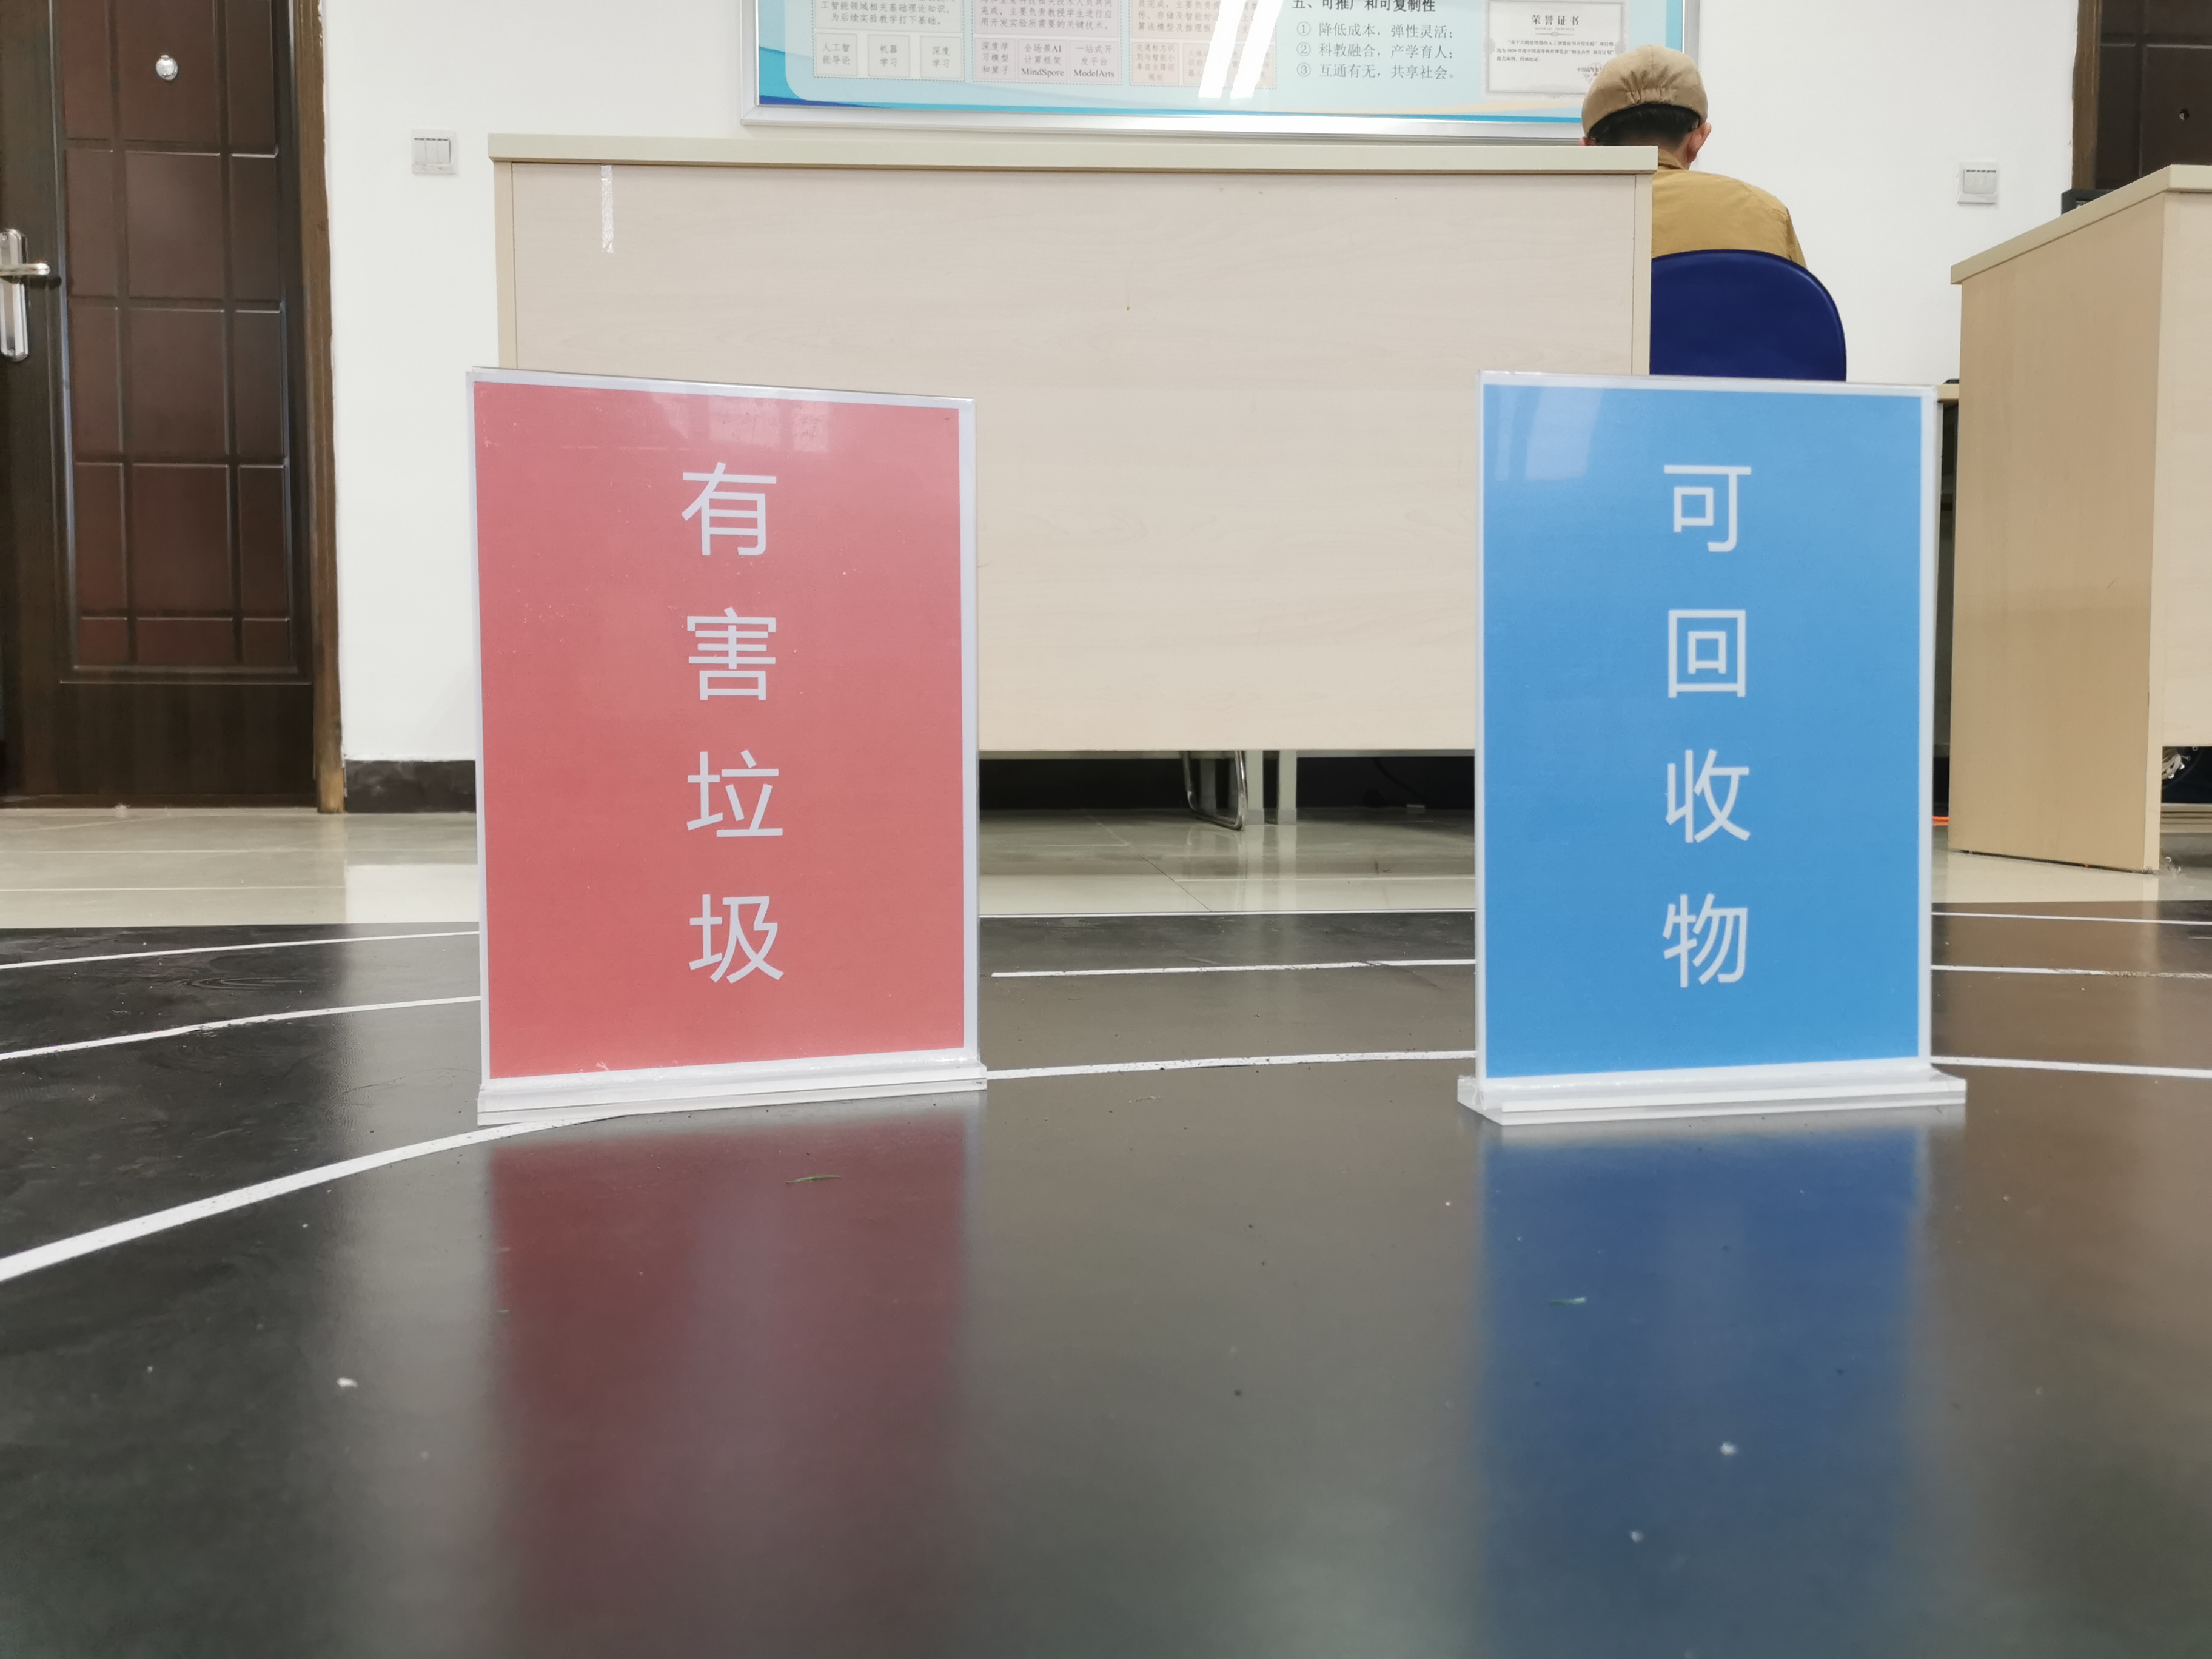blue: (1491, 404, 1912, 1053)
red: (496, 410, 954, 1037)
